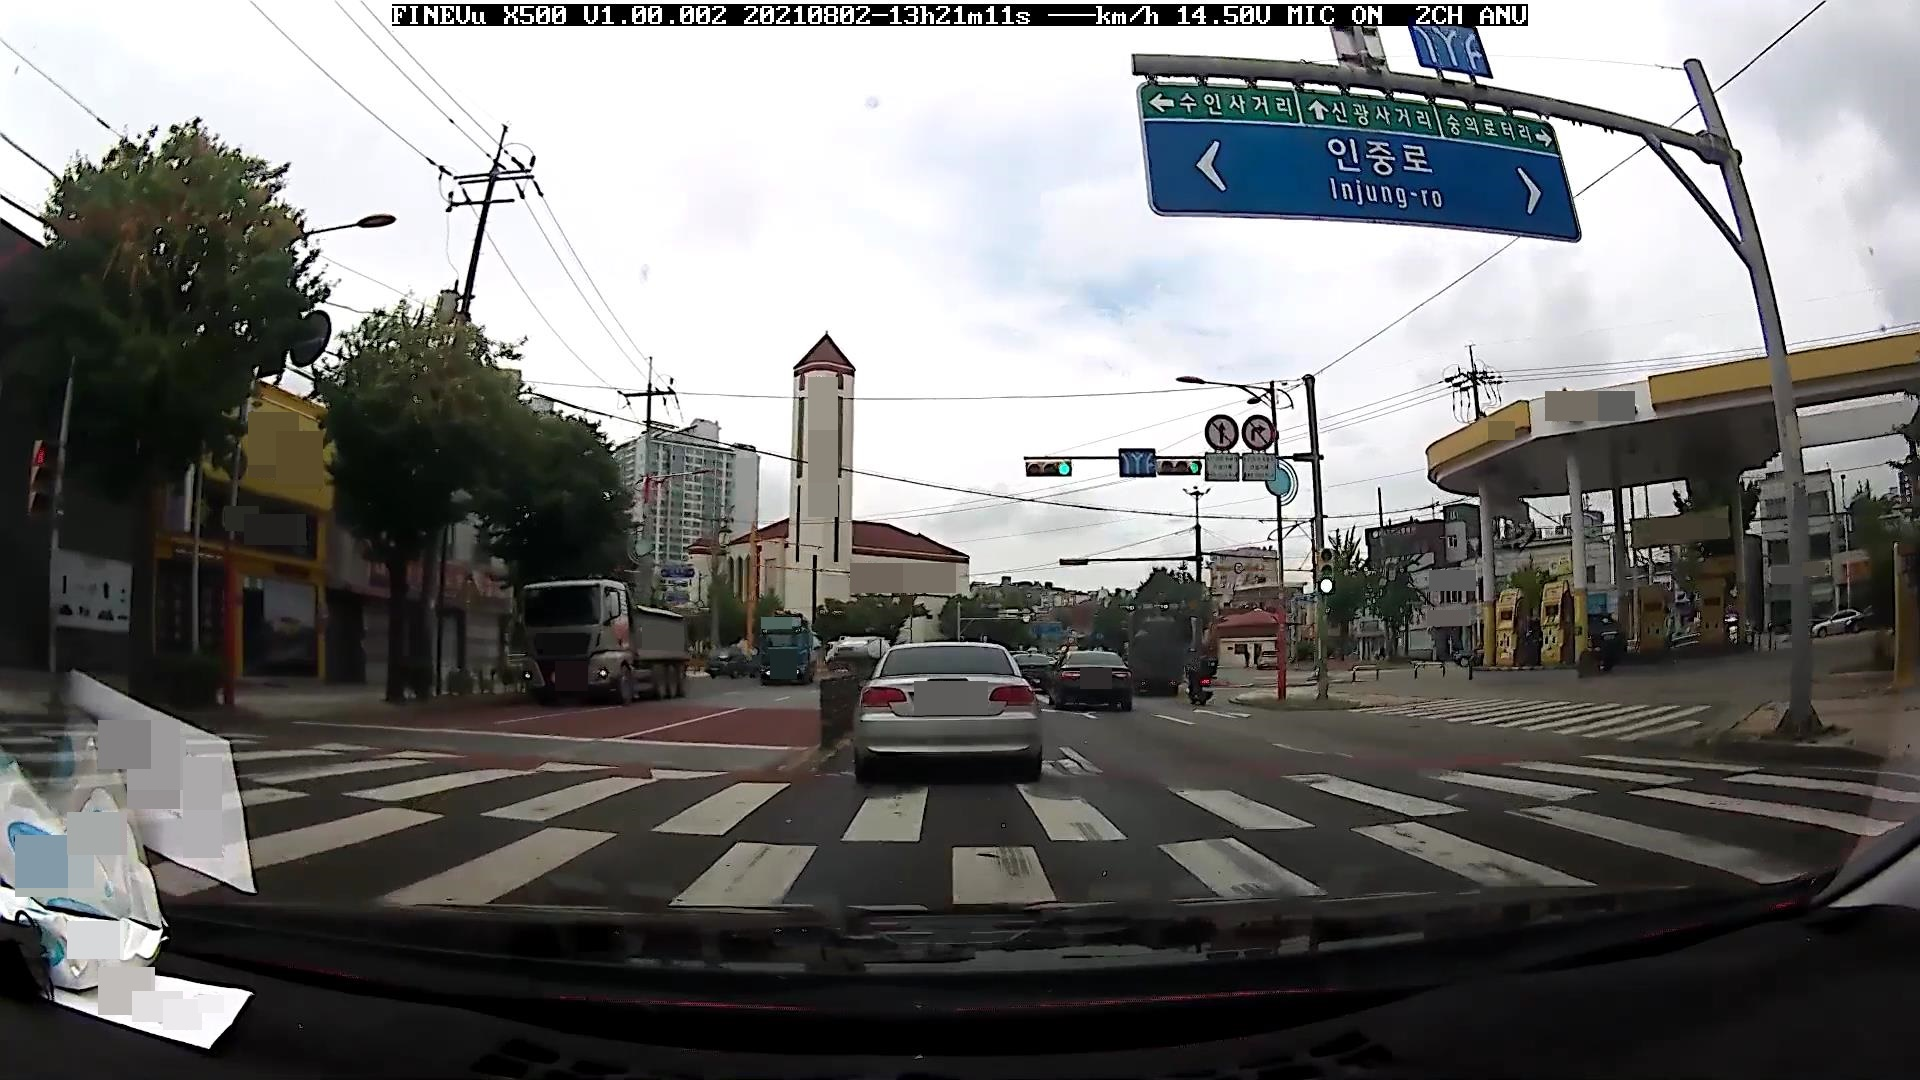정상차량: (522, 580, 692, 707)
